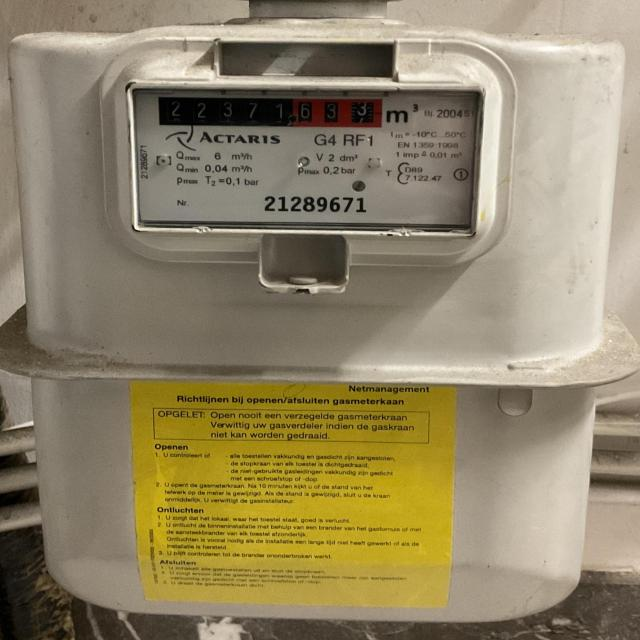gaz_meter: (127, 80, 483, 234)
indication: (157, 96, 383, 129)
